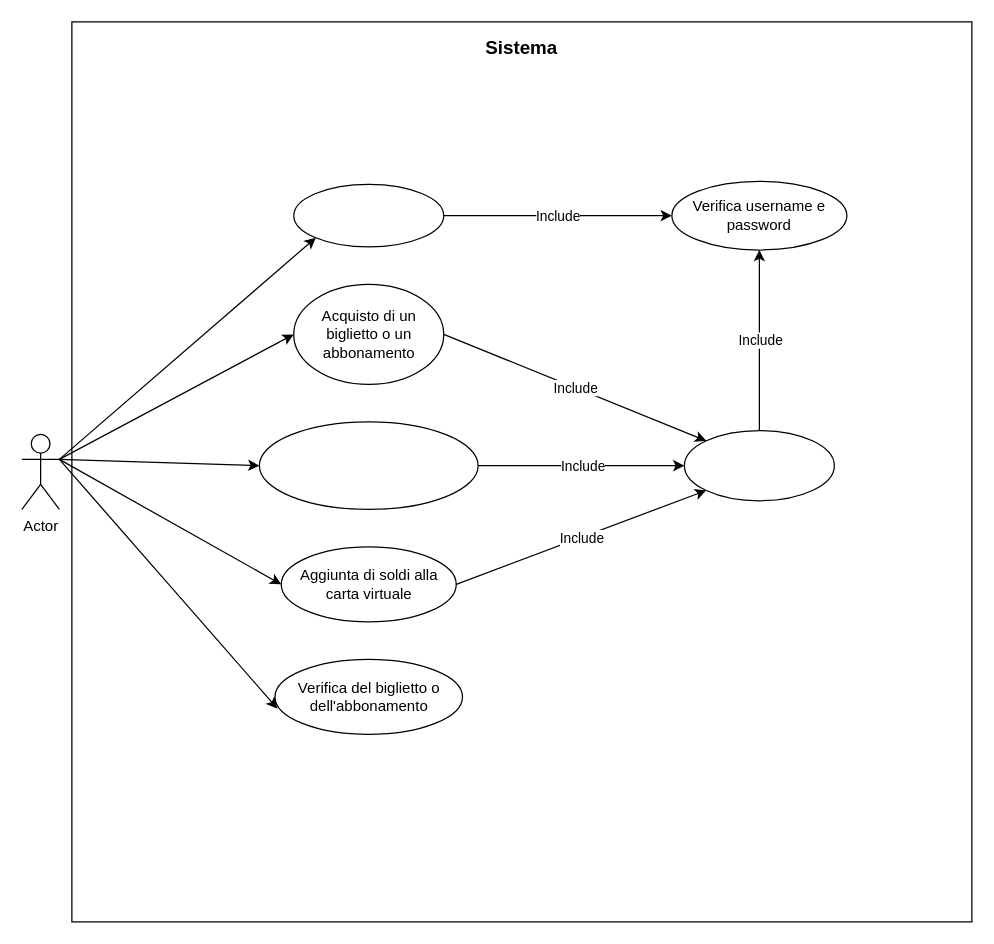
Some shapes in this 994 by 944 pixel diagram are drawn without their labels. Each missing label, with the box of its shape:
Accesso all'account: (683, 429, 834, 501)
Creazione di un account: (292, 183, 444, 247)
Visualizzazione del biglietto o dell'abbonamento corrente: (258, 421, 478, 509)
